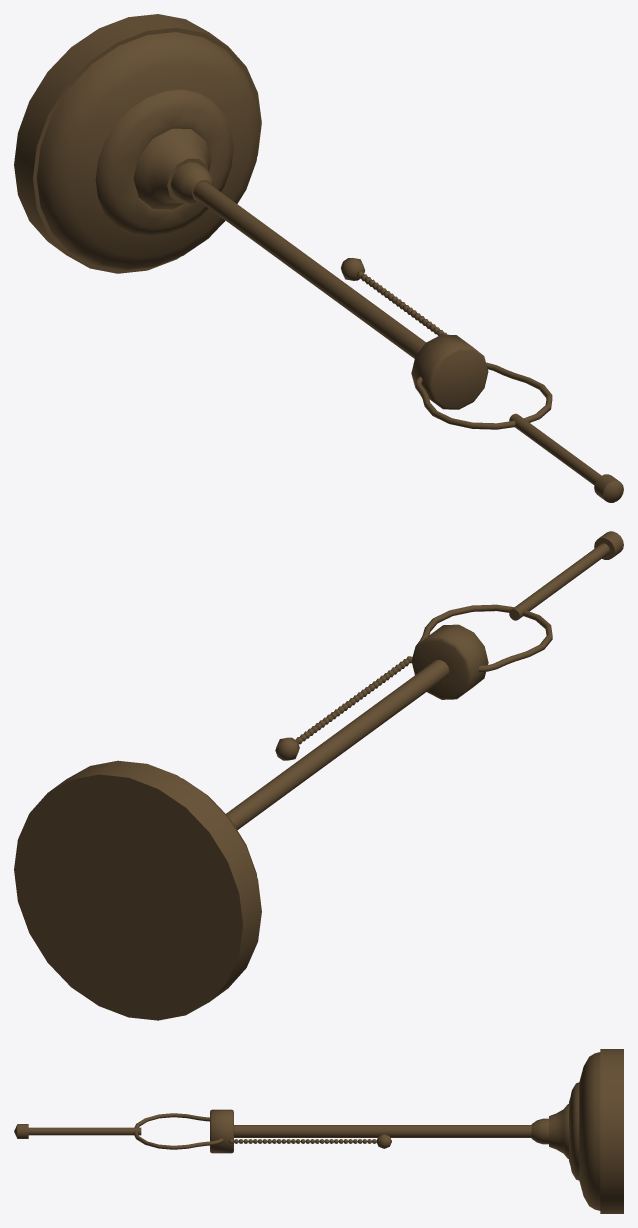
File: MeshRobothorDeskLampArstid_0_GeomSubset_0.obj
The picture shows the model from 3 angles, top to bottom: view 1: azimuth 30°, elevation 25°; view 2: azimuth 150°, elevation 25°; view 3: azimuth 270°, elevation 25°; orthographic projection. The views are drawn at different scales.
Visible parts, largest first — view 1: MeshRobothorDeskLampArstid_0_GeomSubset_0; view 2: MeshRobothorDeskLampArstid_0_GeomSubset_0; view 3: MeshRobothorDeskLampArstid_0_GeomSubset_0.
Part boxes in pixels (<box>): MeshRobothorDeskLampArstid_0_GeomSubset_0: <box>14,14,623,502</box>; MeshRobothorDeskLampArstid_0_GeomSubset_0: <box>14,531,623,1020</box>; MeshRobothorDeskLampArstid_0_GeomSubset_0: <box>14,1049,623,1213</box>.
Bounding box in the file's own units: 0.1467 × 0.1467 × 0.5409.
